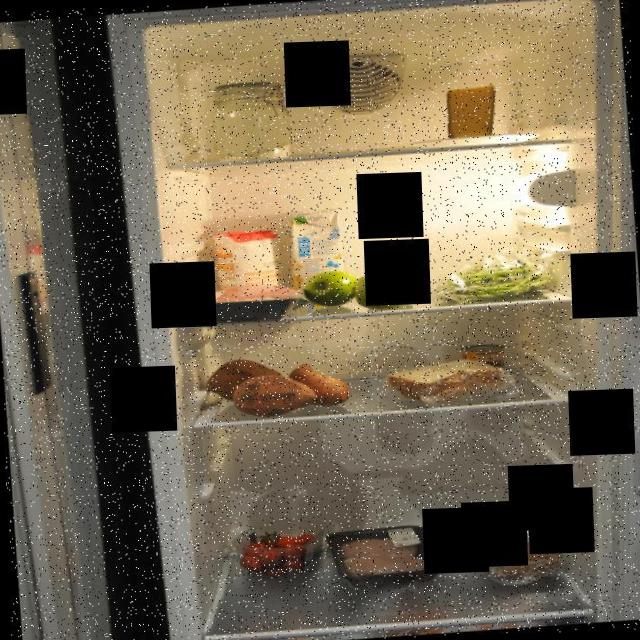Carne pollo: (324, 520, 452, 592)
Carne vacuno: (174, 280, 302, 326)
Gambas/Langostinos: (471, 532, 574, 584)
Leche: (286, 205, 348, 302)
Manzana: (294, 260, 424, 314)
Queso: (442, 84, 498, 142)
bread: (382, 354, 514, 406)
flour: (202, 74, 298, 164)
green_beans: (434, 248, 554, 306)
strawberries: (237, 525, 326, 580)
sugar: (206, 224, 290, 306)
sweet_potato: (199, 350, 360, 421)
